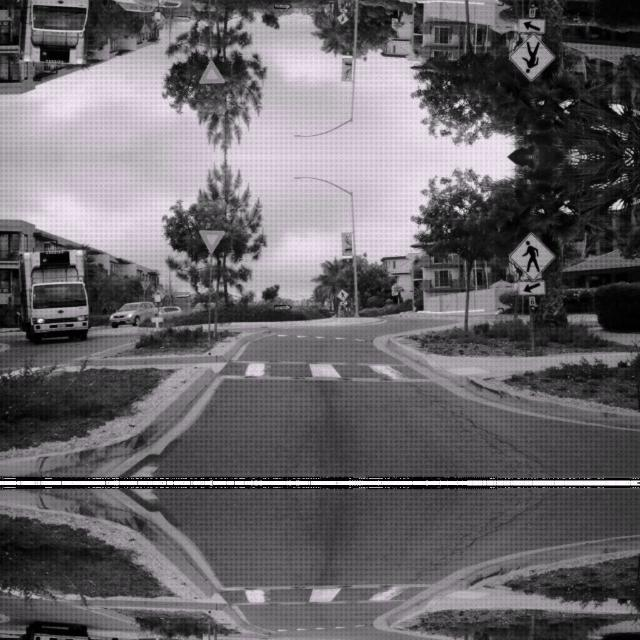pedestrianCrossing: (507, 230, 555, 280), (507, 32, 555, 82), (336, 288, 348, 300), (336, 12, 348, 24)
yield: (198, 228, 224, 254), (198, 58, 224, 84)
